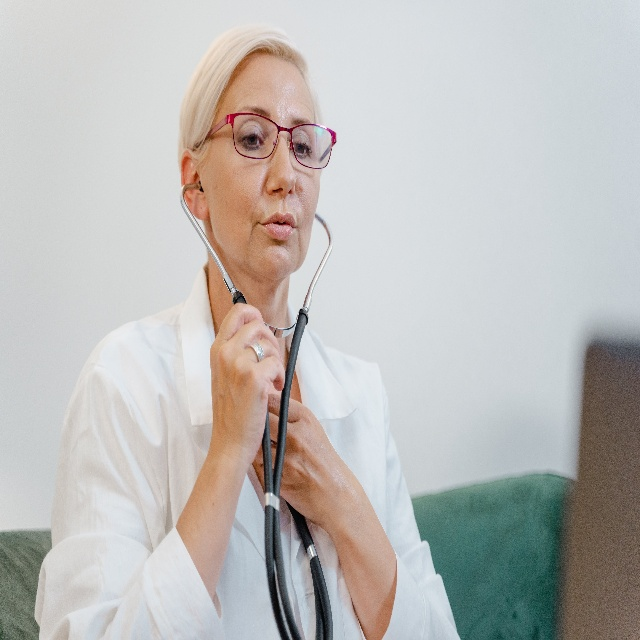Gafas: (206, 112, 337, 169)
Sin_guantes: (209, 302, 287, 467), (255, 393, 350, 526)
